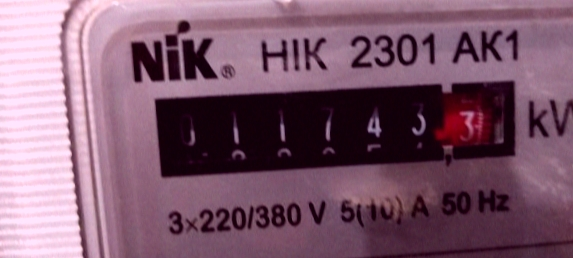0: (173, 109, 197, 150), (223, 105, 243, 147)
1: (270, 103, 288, 145)
3: (404, 96, 427, 140), (453, 105, 476, 145)
4: (360, 99, 382, 140)
7: (312, 99, 338, 145)
screen: (132, 59, 527, 193)
